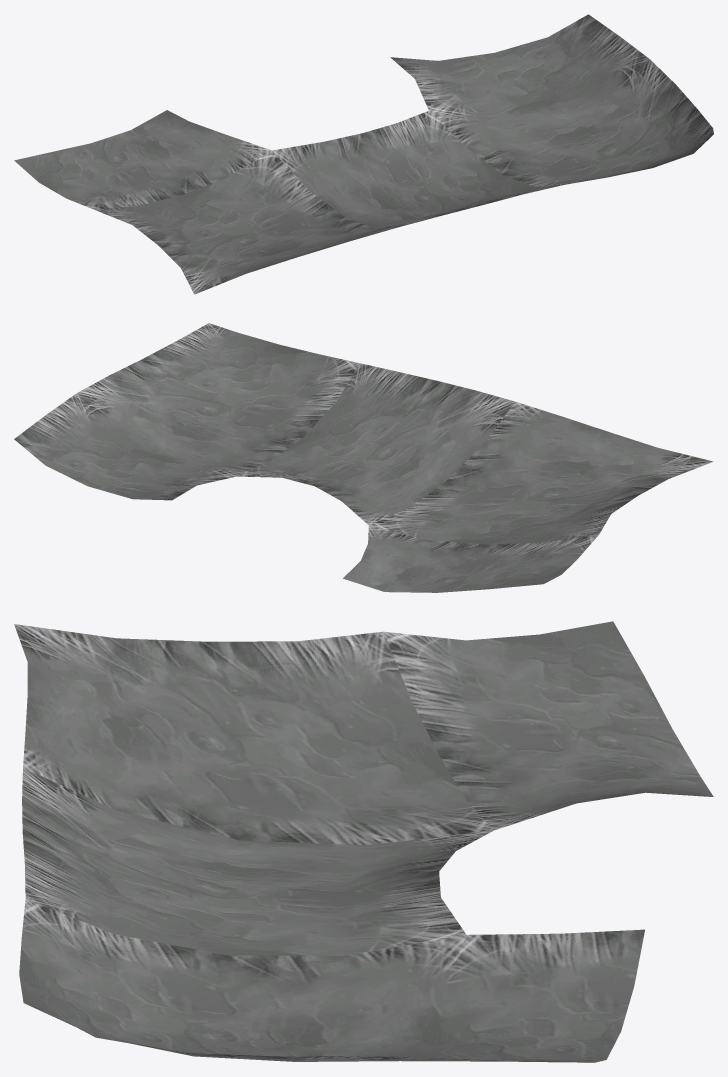
The model's file is SWORDLIGHT20_PS-AREA01_19.fbx.
3 renders of one model, top to bottom at view 1: azimuth 30°, elevation 25°; view 2: azimuth 150°, elevation 25°; view 3: azimuth 270°, elevation 25°, orthographic. The views are drawn at different scales.
Parts seen in each view (by area): view 1: SWORDLIGHT20_PS-AREA01_19; view 2: SWORDLIGHT20_PS-AREA01_19; view 3: SWORDLIGHT20_PS-AREA01_19.
Boxes of the visible parts, x1=… form: SWORDLIGHT20_PS-AREA01_19: x1=14, y1=14, x2=713, y2=294; SWORDLIGHT20_PS-AREA01_19: x1=14, y1=323, x2=713, y2=592; SWORDLIGHT20_PS-AREA01_19: x1=14, y1=621, x2=713, y2=1062.
Size of the model in its own units: 179969 by 15552 by 115610.
Materials: 3 (3 with a texture image).
